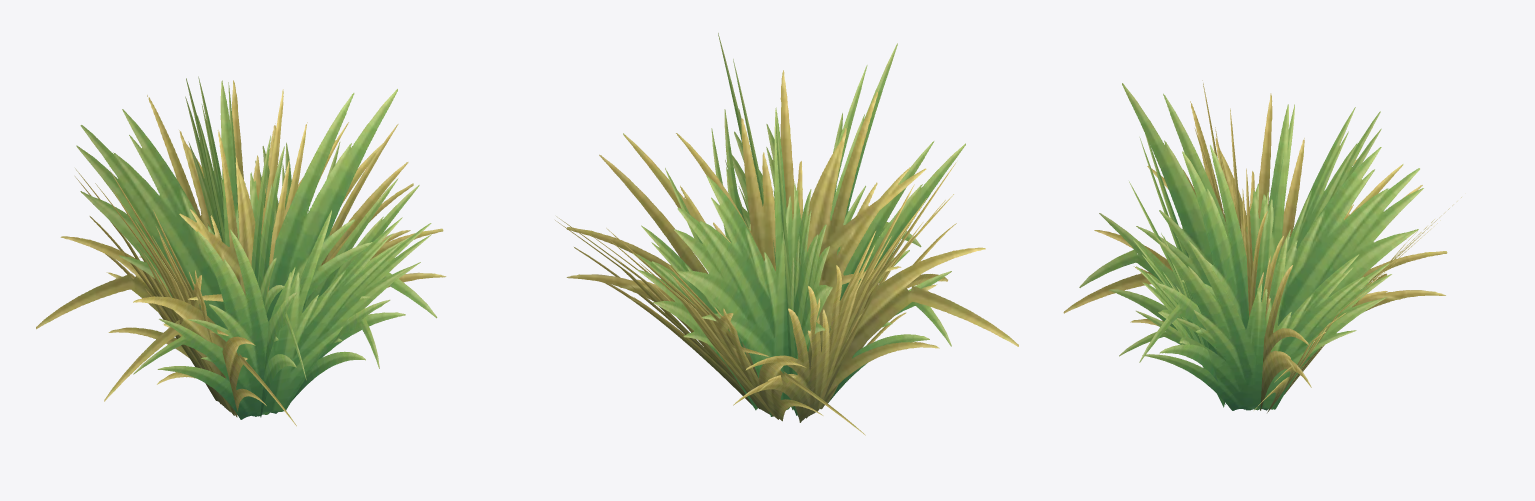
File: grass_dry.glb
3 renders of one model, left to right at view 1: azimuth 30°, elevation 25°; view 2: azimuth 150°, elevation 25°; view 3: azimuth 270°, elevation 25°, orthographic. The views are drawn at different scales.
Parts seen in each view (by area): view 1: grass_dry; view 2: grass_dry; view 3: grass_dry.
Part boxes in pixels (box(x1,y1,x2,y2)): grass_dry: box(36, 76, 446, 426); grass_dry: box(555, 33, 1018, 435); grass_dry: box(1063, 80, 1461, 412).
Bounding box in the file's own units: 0.8003 × 0.5769 × 0.7874.
Materials: 1 (1 with a texture image).
